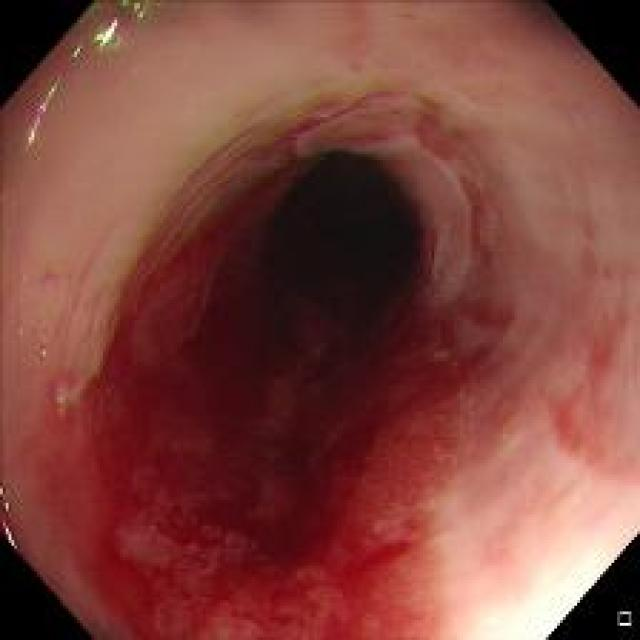blood: (42, 219, 461, 631)
color misalignment: (86, 12, 142, 61), (24, 85, 55, 140), (0, 486, 20, 549), (66, 41, 80, 58)
contrast: (220, 140, 428, 392)
saturation: (495, 566, 606, 629)
specularity: (99, 19, 121, 50), (25, 120, 39, 146)
